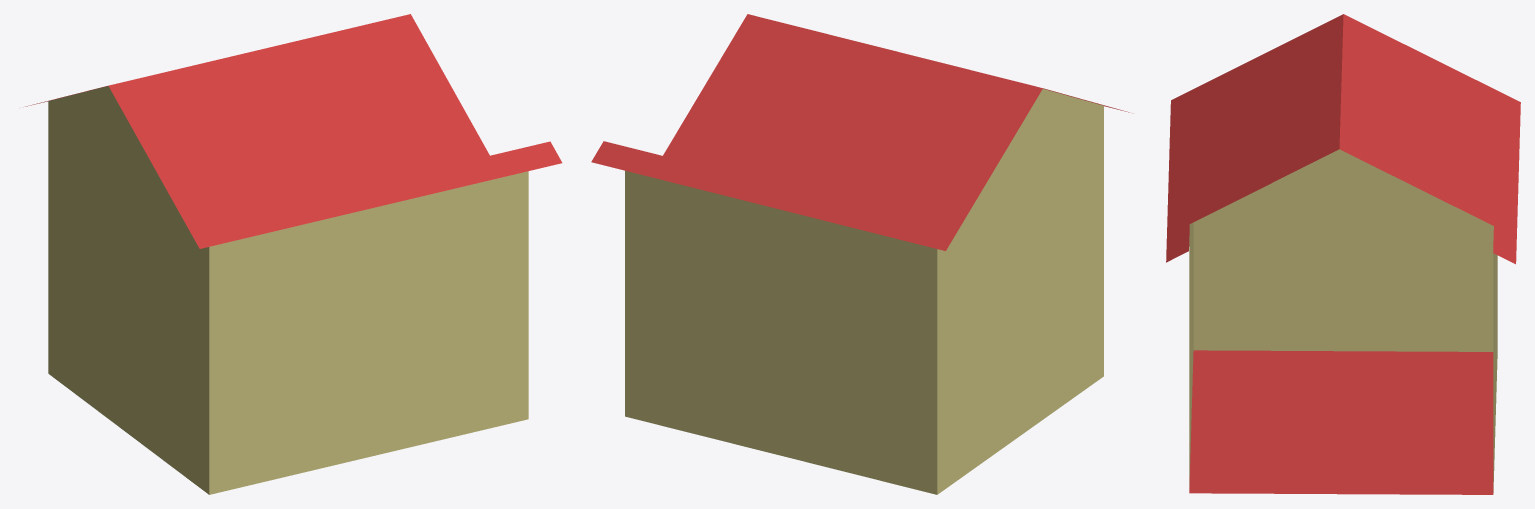
3 views of the same model, side by side, from view 1: azimuth 30°, elevation 25°; view 2: azimuth 150°, elevation 25°; view 3: azimuth 270°, elevation 25° (orthographic). The views are drawn at different scales.
Size of the model in its own units: 12.72 by 11.61 by 11.83.
